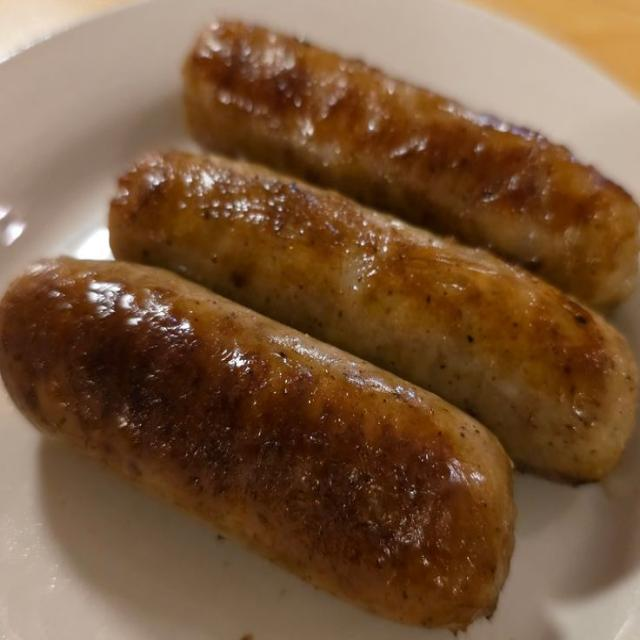sausage: (0, 259, 513, 629), (110, 154, 636, 481), (184, 23, 639, 307)
